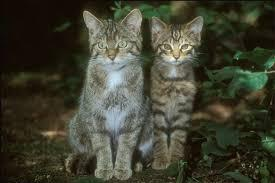Cat: (83, 7, 146, 68), (146, 12, 206, 68)
